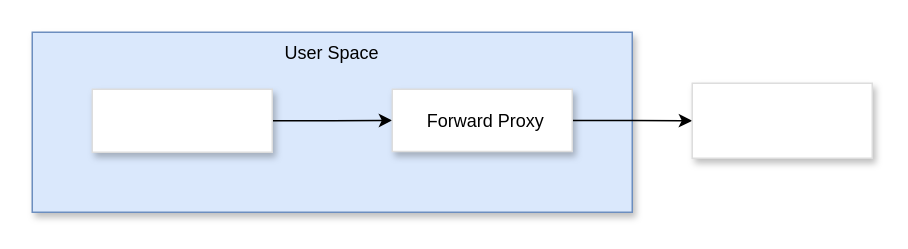
Image size: 908x249. Some labels were removed from this diagram. The shapes that lost their labels are listed below. From the top down, each one's centre as x and y in pixels, then its label:
(x=183, y=122): Epic Game Store
(x=783, y=122): Internet
